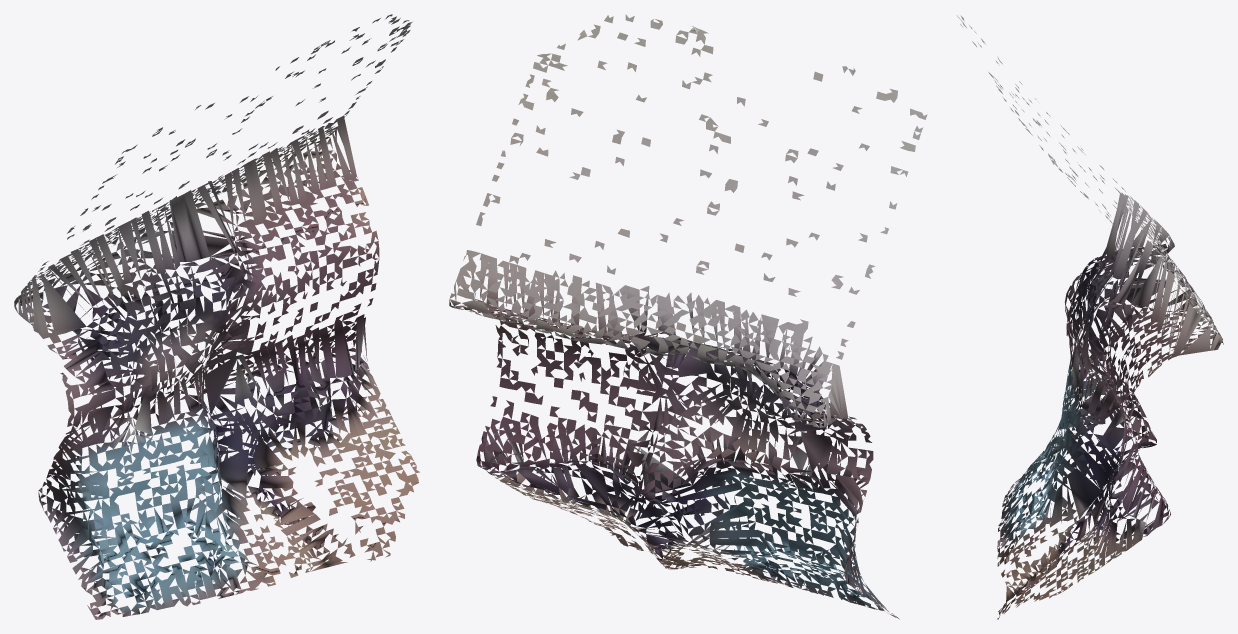
File: alpha0-1.gltf
3 renders of one model, left to right at view 1: azimuth 30°, elevation 25°; view 2: azimuth 150°, elevation 25°; view 3: azimuth 270°, elevation 25°, orthographic. The views are drawn at different scales.
Size of the model in its own units: 1.04 by 1.55 by 0.7211.
